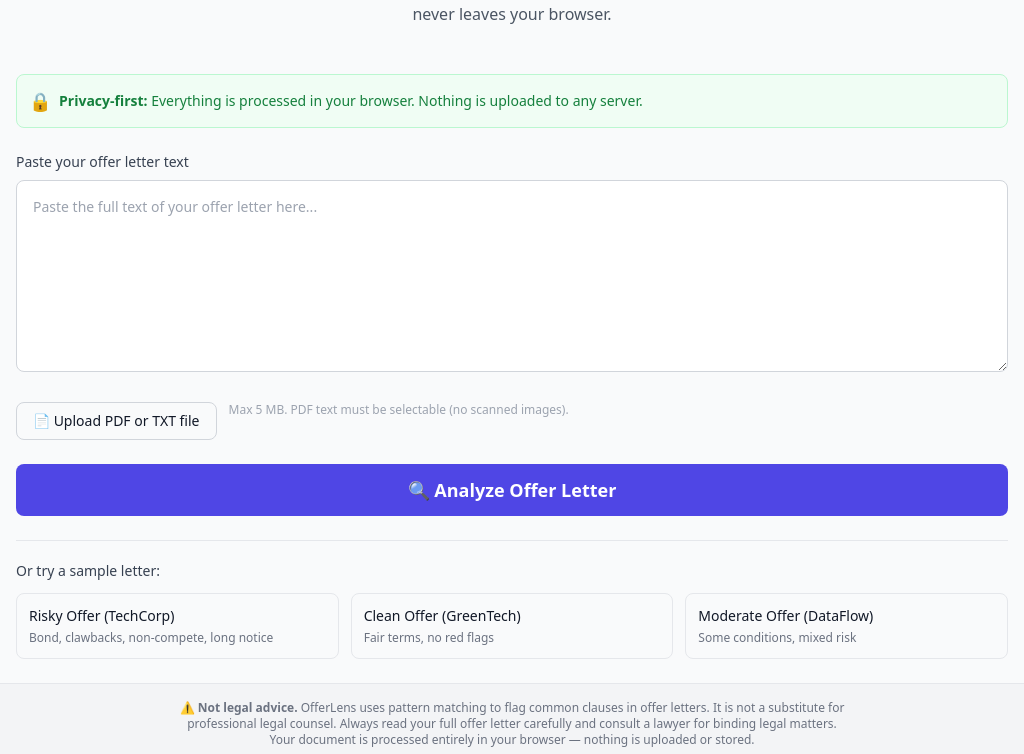
Test: App component › navigates to results when sample is clicked and allows adding to compare
This screenshot has width=1024, height=754.
(page scrolled)
What coordinates should you click on to do the following:
click the text "Risky Offer (TechCorp)"
I would click on:
 (102, 616)
Its box is [29,606,174,625].
(page scrolled)
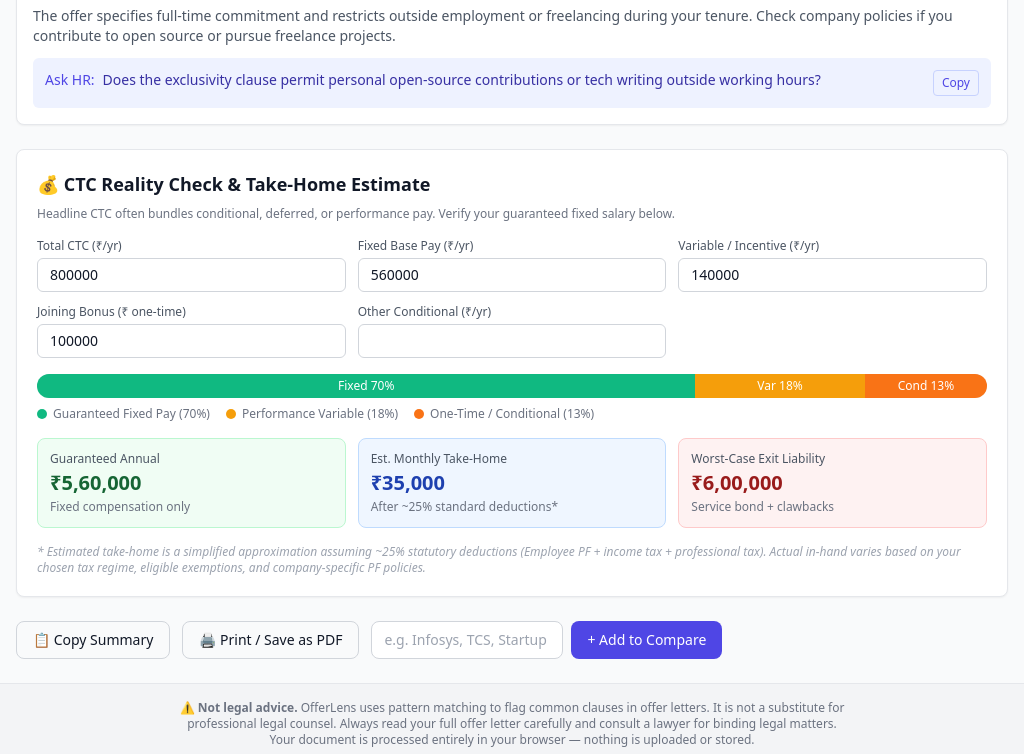
# Add this offer to compare
What coordinates should you click on to do the following:
click the button "+ Add to Compare"
I would click on:
 (647, 640)
Its box is [571,621,722,659].
(page scrolled)
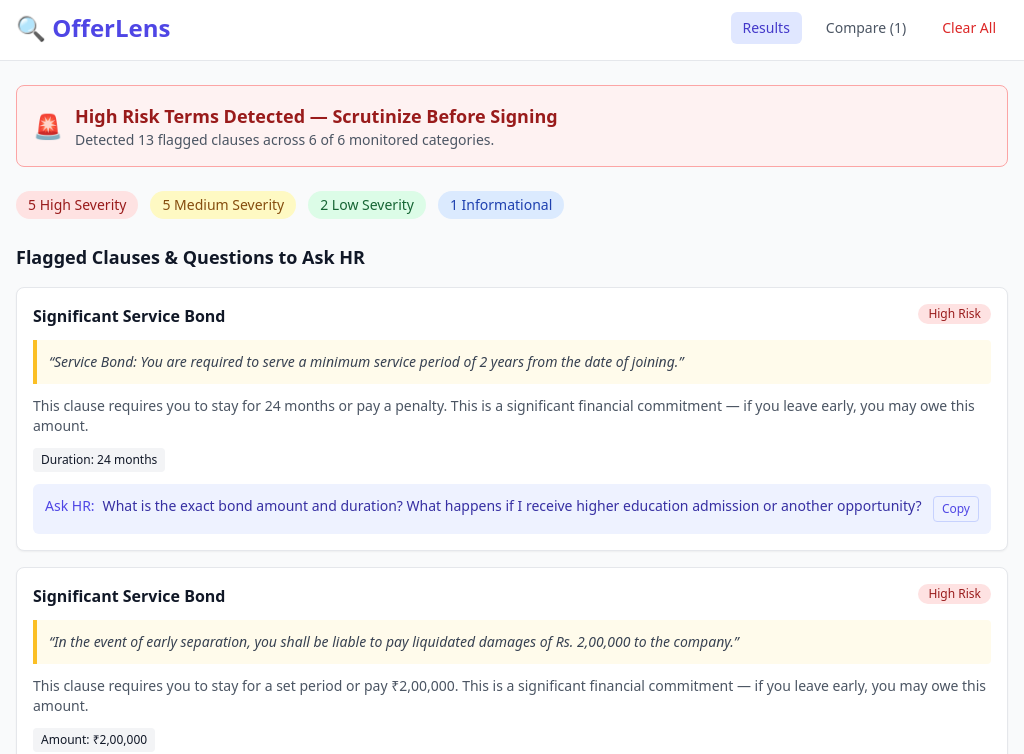
# Switch to compare tab and verify it rendered in the table
What coordinates should you click on to do the following:
click the button "Compare (1)"
I would click on:
 (866, 28)
Its box is [814,12,918,44].
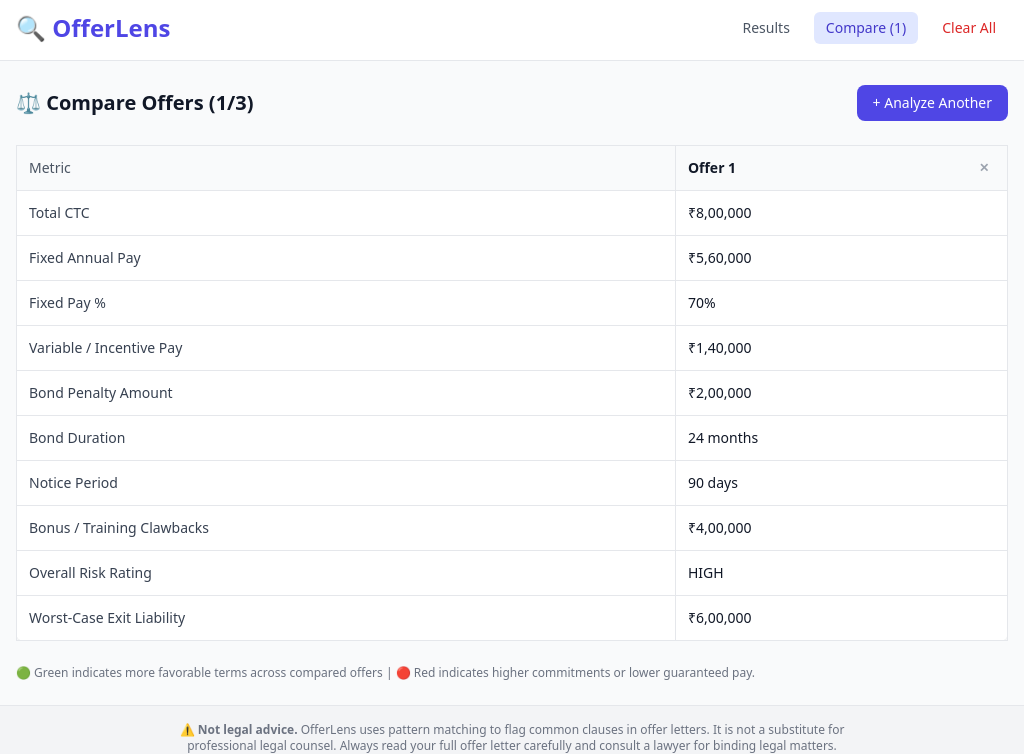
Expected: the heading "⚖️ Compare Offers (1/3)" is shown, [16,89,254,117]
Expected: the text "Offer 1" is shown, [688,158,736,178]
